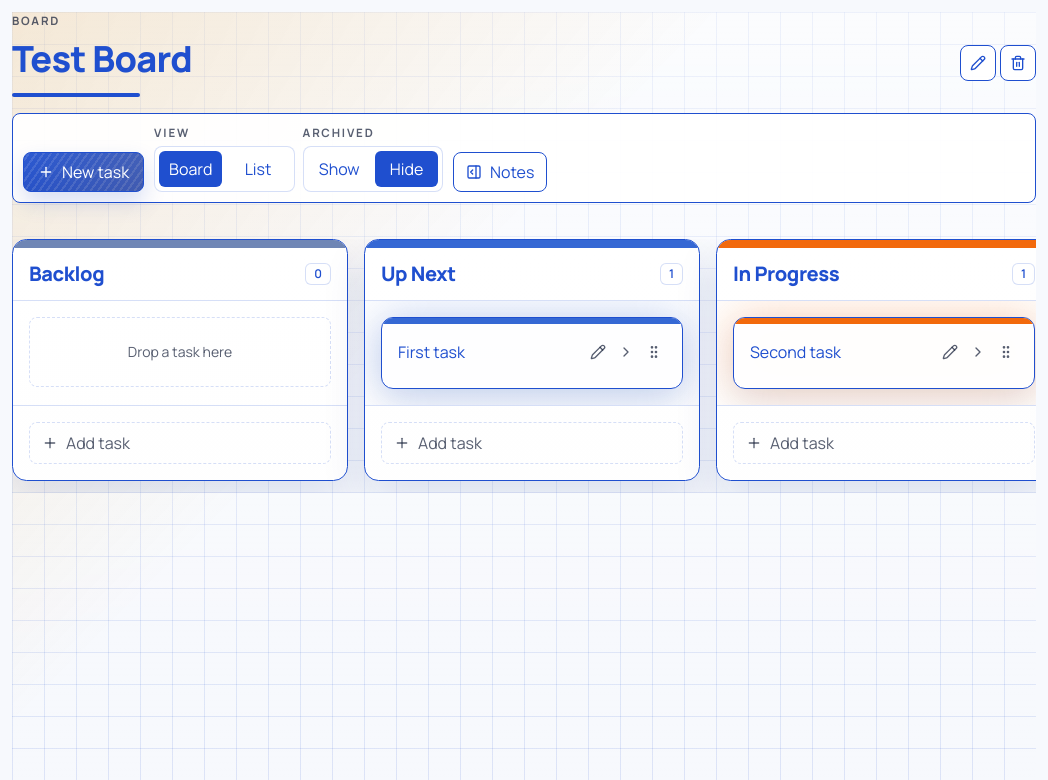
Test case: BoardWorkspace drag and drop › pressing Escape mid-drag cancels the move and leaves the task in its original column
Press the mouse on the button named "Drag First task" at (654, 352), box [642, 340, 666, 364]
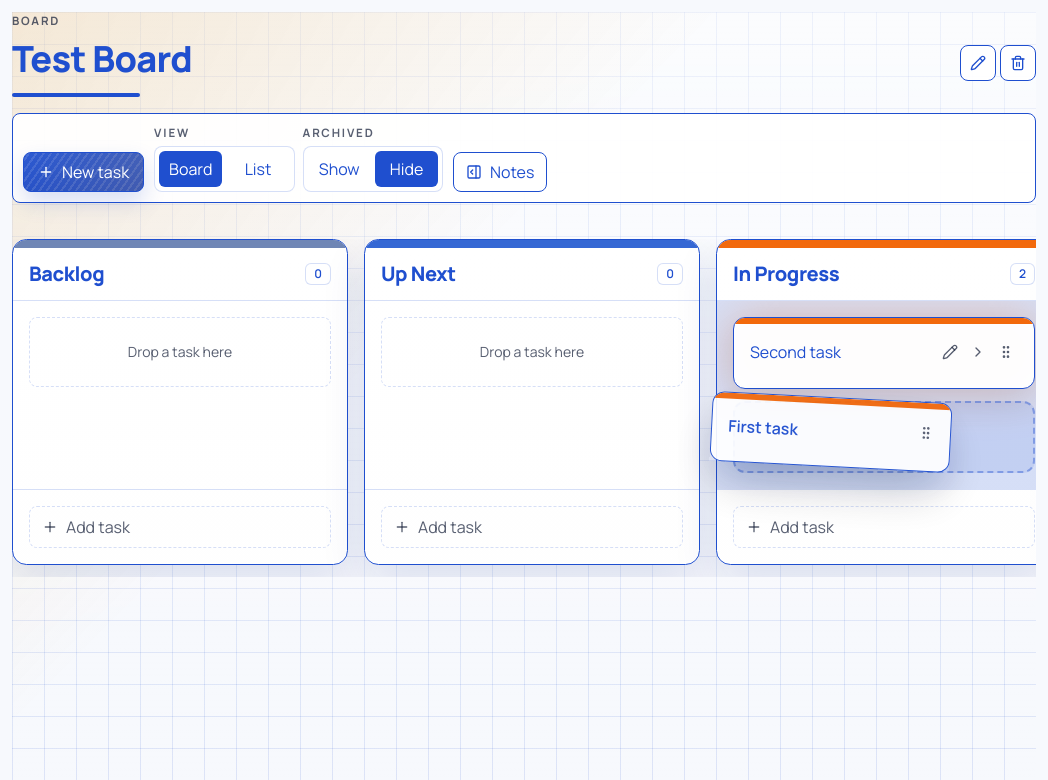
Press Escape
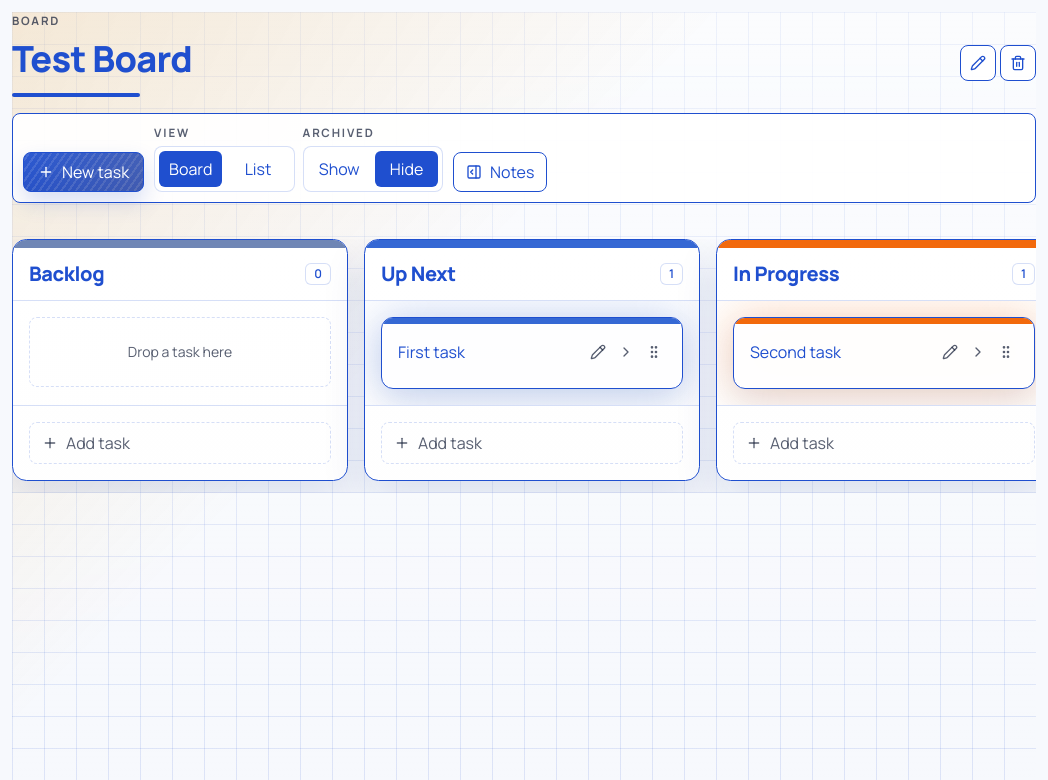
Expected: the element with class "blueprint-scrollbar" reads "First task", [398, 340, 574, 364]
